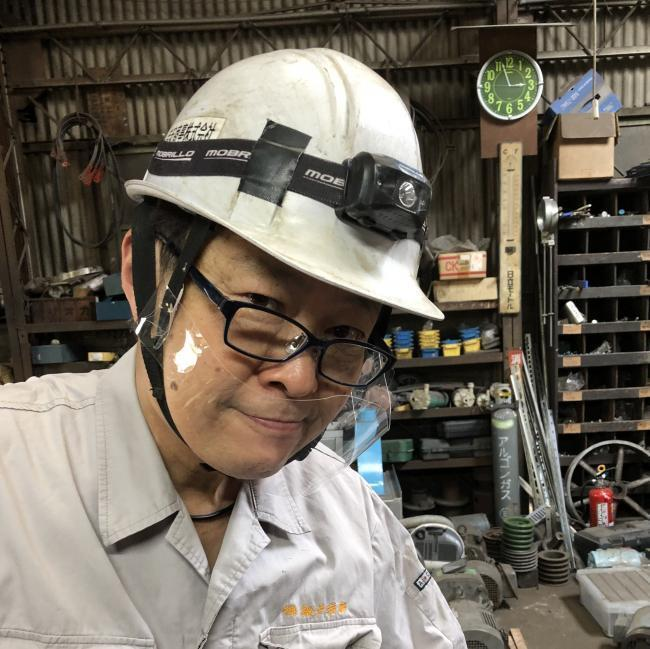helmet: (124, 46, 444, 325)
